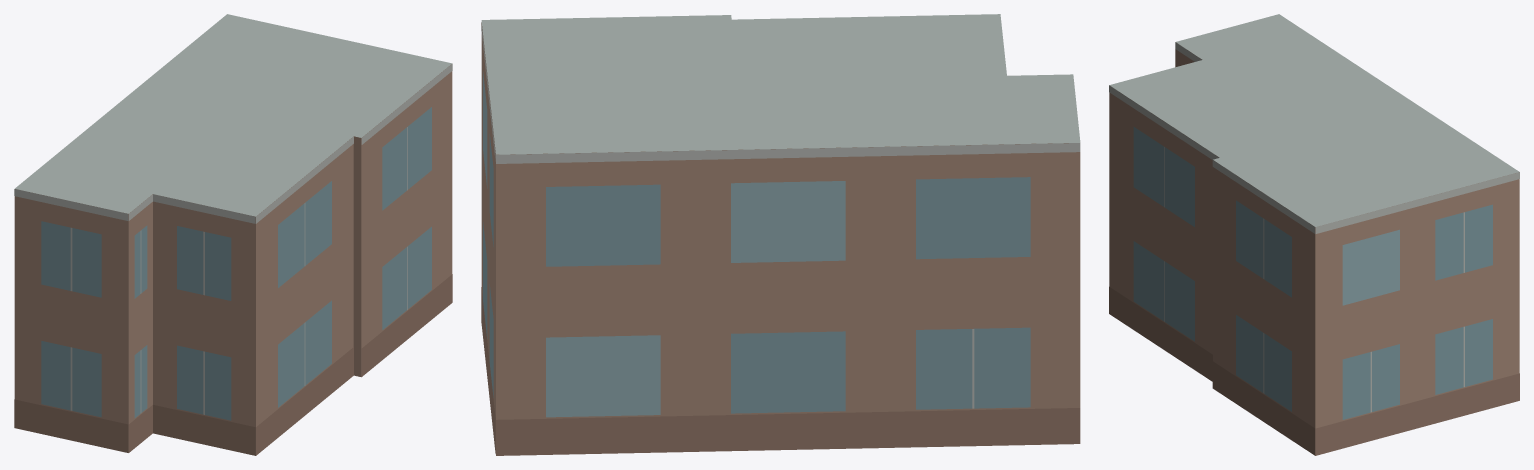
Rendered from survey-upis-32800445.glb.
The picture shows the model from 3 angles, left to right: view 1: azimuth 30°, elevation 25°; view 2: azimuth 150°, elevation 25°; view 3: azimuth 270°, elevation 25°; orthographic projection. The views are drawn at different scales.
Parts seen in each view (by area): view 1: survey-upis-32800445.tmp; view 2: survey-upis-32800445.tmp; view 3: survey-upis-32800445.tmp.
Boxes of the visible parts, x1,y1,x2,y2 form: survey-upis-32800445.tmp: (14, 14, 452, 455); survey-upis-32800445.tmp: (481, 14, 1080, 455); survey-upis-32800445.tmp: (1109, 14, 1519, 455).
Size of the model in its own units: 15.8 by 7.9 by 12.86.
